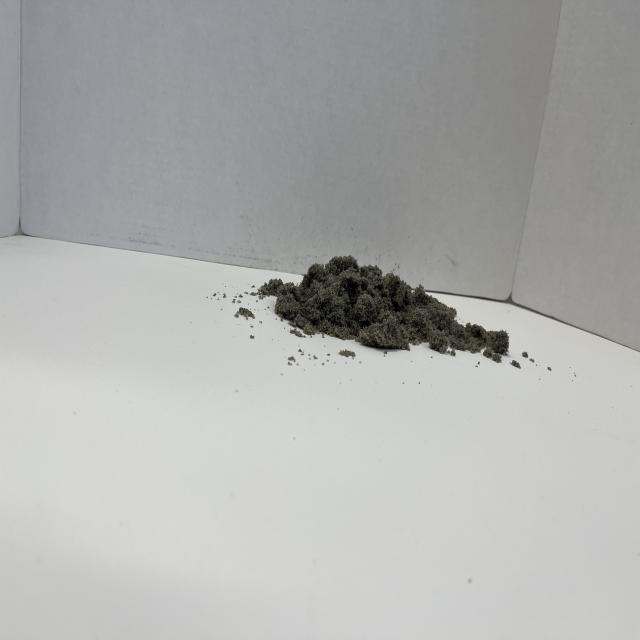sand: (280, 245, 504, 364)
